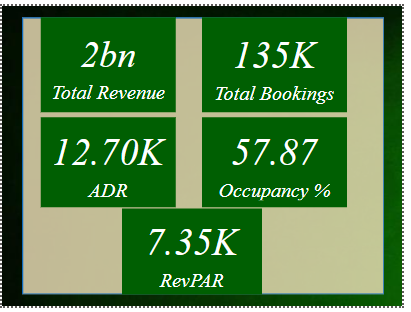

The page's visual inventory and layout, read from the dashboard file:
{"tool":"powerbi","page":{"name":"ToolTip","canvas":[320,240],"ordinal":5},"visuals":[{"type":"image","title":"Background_Image","box":[0,0,1280,720],"z":0},{"type":"shape","title":"KPI_Shape","box":[16.4,8.6,289.3,222.1],"z":1000},{"type":"card","title":"Total_revenue","fields":{"Values":["fact_bookings.Total Revenue"]},"box":[30.7,8.6,108.6,76.4],"z":2000},{"type":"card","title":"Total_Bookings","fields":{"Values":["fact_bookings.Total Bookings"]},"box":[160,8.6,115.7,76.4],"z":3000},{"type":"card","title":"ADR","fields":{"Values":["fact_bookings.ADR"]},"box":[30.7,88.6,108.6,72.9],"z":4000},{"type":"card","title":"Occupancy %","fields":{"Values":["fact_bookings.Occupancy %"]},"box":[160,89.3,115.7,72.1],"z":5000},{"type":"card","title":"RevPAR","fields":{"Values":["fact_bookings.RevPAR"]},"box":[96,162,112,69],"z":6000}]}

Visuals, with their boxes in screenshot pixels (x1, y1, x2, y2), scaled from the page's 320x240 canvas onto the 411x312 screenshot:
"Background_Image" image: 0,0,410,311
"KPI_Shape" shape: 21,11,393,300
"Total_revenue" card: 39,11,179,110
"Total_Bookings" card: 206,11,354,110
"ADR" card: 39,115,179,210
"Occupancy %" card: 206,116,354,210
"RevPAR" card: 123,211,267,300
